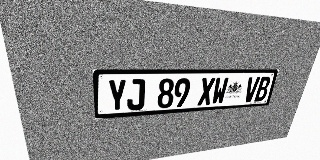8: (157, 78, 175, 108)
9: (173, 78, 191, 107)
B: (254, 77, 272, 101)
J: (127, 79, 145, 111)
V: (243, 77, 260, 102)
W: (211, 77, 229, 105)
X: (197, 78, 215, 106)
Y: (107, 79, 127, 112)
